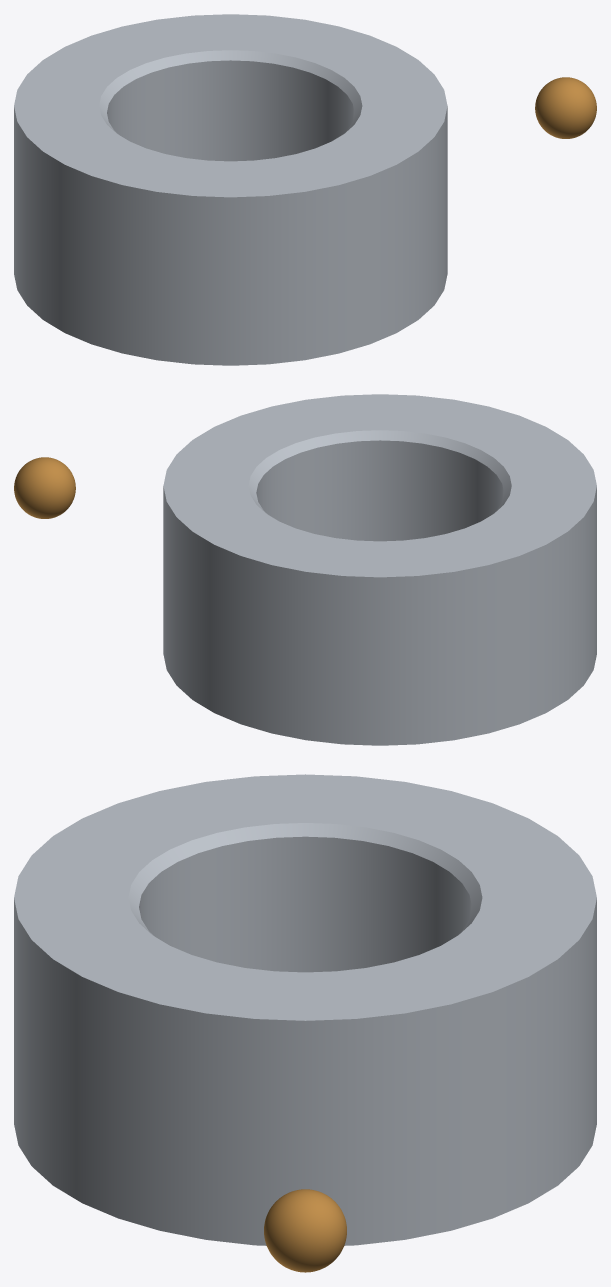
File: small-blender.glb
3 renders of one model, top to bottom at view 1: azimuth 30°, elevation 25°; view 2: azimuth 150°, elevation 25°; view 3: azimuth 270°, elevation 25°, orthographic. The views are drawn at different scales.
Visible parts, largest first — view 1: bushing, preserved; view 2: bushing, preserved; view 3: bushing, preserved.
Boxes of the visible parts, x1=… form: bushing: x1=14, y1=14, x2=447, y2=365; preserved: x1=535, y1=77, x2=596, y2=138; bushing: x1=163, y1=394, x2=596, y2=745; preserved: x1=14, y1=457, x2=75, y2=518; bushing: x1=14, y1=774, x2=596, y2=1245; preserved: x1=264, y1=1189, x2=346, y2=1272.
Size of the model in its own units: 0.0205 by 0.006 by 0.014.
